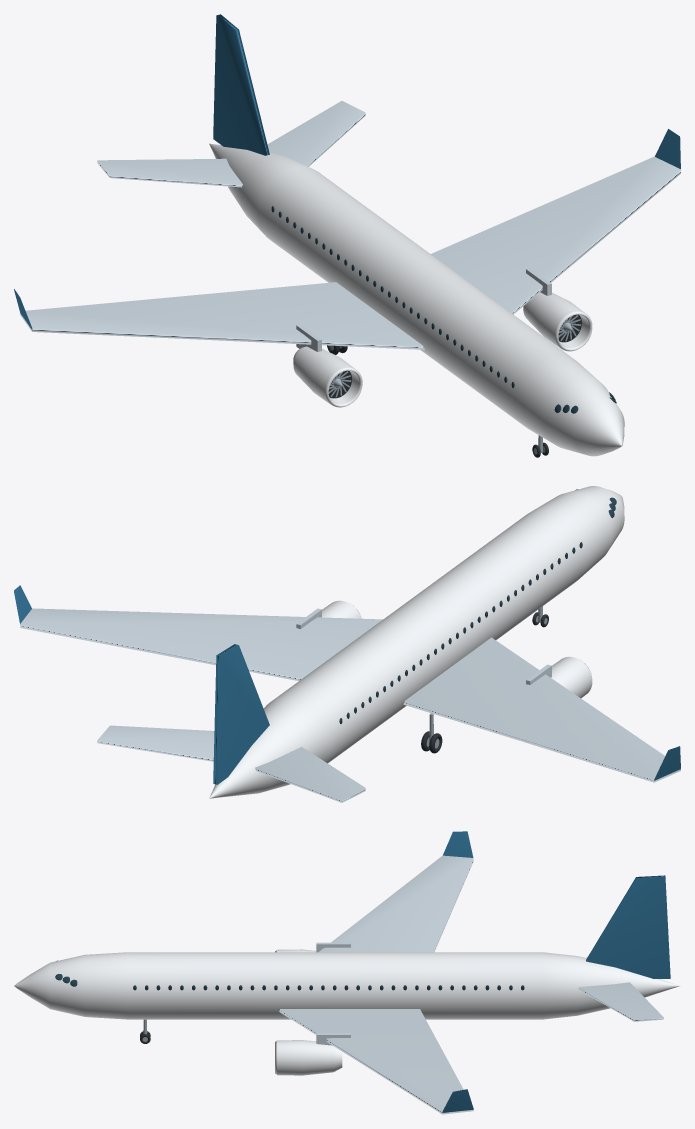
File: twinjet-200000-47bcc98481.glb
3 views of the same model, one above another, from view 1: azimuth 30°, elevation 25°; view 2: azimuth 150°, elevation 25°; view 3: azimuth 270°, elevation 25° (orthographic). The views are drawn at different scales.
Parts seen in each view (by area): view 1: Fuselage_white, WingRight_wing, WingLeft_wing, VerticalTail_blue, HorizontalTailRight_wing, HorizontalTailLeft_wing, EngineRight_white, EngineLeft_white, WingLeft_blue, CabinWindows_glass; view 2: Fuselage_white, WingRight_wing, WingLeft_wing, VerticalTail_blue, HorizontalTailRight_wing, HorizontalTailLeft_wing, EngineRight_white, CabinWindows_glass, EngineLeft_white, WingRight_blue; view 3: Fuselage_white, WingLeft_wing, WingRight_wing, VerticalTail_blue, EngineLeft_white, HorizontalTailLeft_wing, CabinWindows_glass, WingRight_blue, WingLeft_blue.
Boxes of the visible parts, x1,y1,x2,y2 form: Fuselage_white: (209,143,624,456); WingRight_wing: (20,282,424,349); WingLeft_wing: (431,156,680,314); VerticalTail_blue: (213,14,269,155); HorizontalTailRight_wing: (97,158,242,187); HorizontalTailLeft_wing: (267,101,365,166); EngineRight_white: (293,346,362,407); EngineLeft_white: (523,292,592,351); WingLeft_blue: (655,129,680,168); CabinWindows_glass: (271,206,514,387); Fuselage_white: (209,486,624,798); WingRight_wing: (403,637,680,782); WingLeft_wing: (20,608,382,680); VerticalTail_blue: (213,644,269,784); HorizontalTailRight_wing: (255,747,365,802); HorizontalTailLeft_wing: (97,725,214,761); EngineRight_white: (551,656,592,698); CabinWindows_glass: (339,542,582,723); EngineLeft_white: (322,600,361,618); WingRight_blue: (654,746,680,780); Fuselage_white: (14,952,680,1019); WingLeft_wing: (279,1009,473,1114); WingRight_wing: (318,855,473,952); VerticalTail_blue: (586,875,670,978); EngineLeft_white: (275,1040,342,1075); HorizontalTailLeft_wing: (578,982,663,1021); CabinWindows_glass: (133,985,524,990); WingRight_blue: (443,831,473,857); WingLeft_blue: (442,1089,473,1112).
Size of the model in its own units: 35.6 by 10.6 by 38.6.
